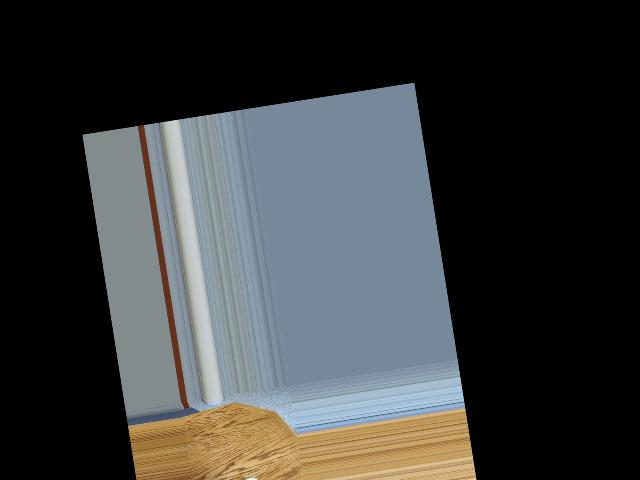cotage: (238, 473, 271, 480)
